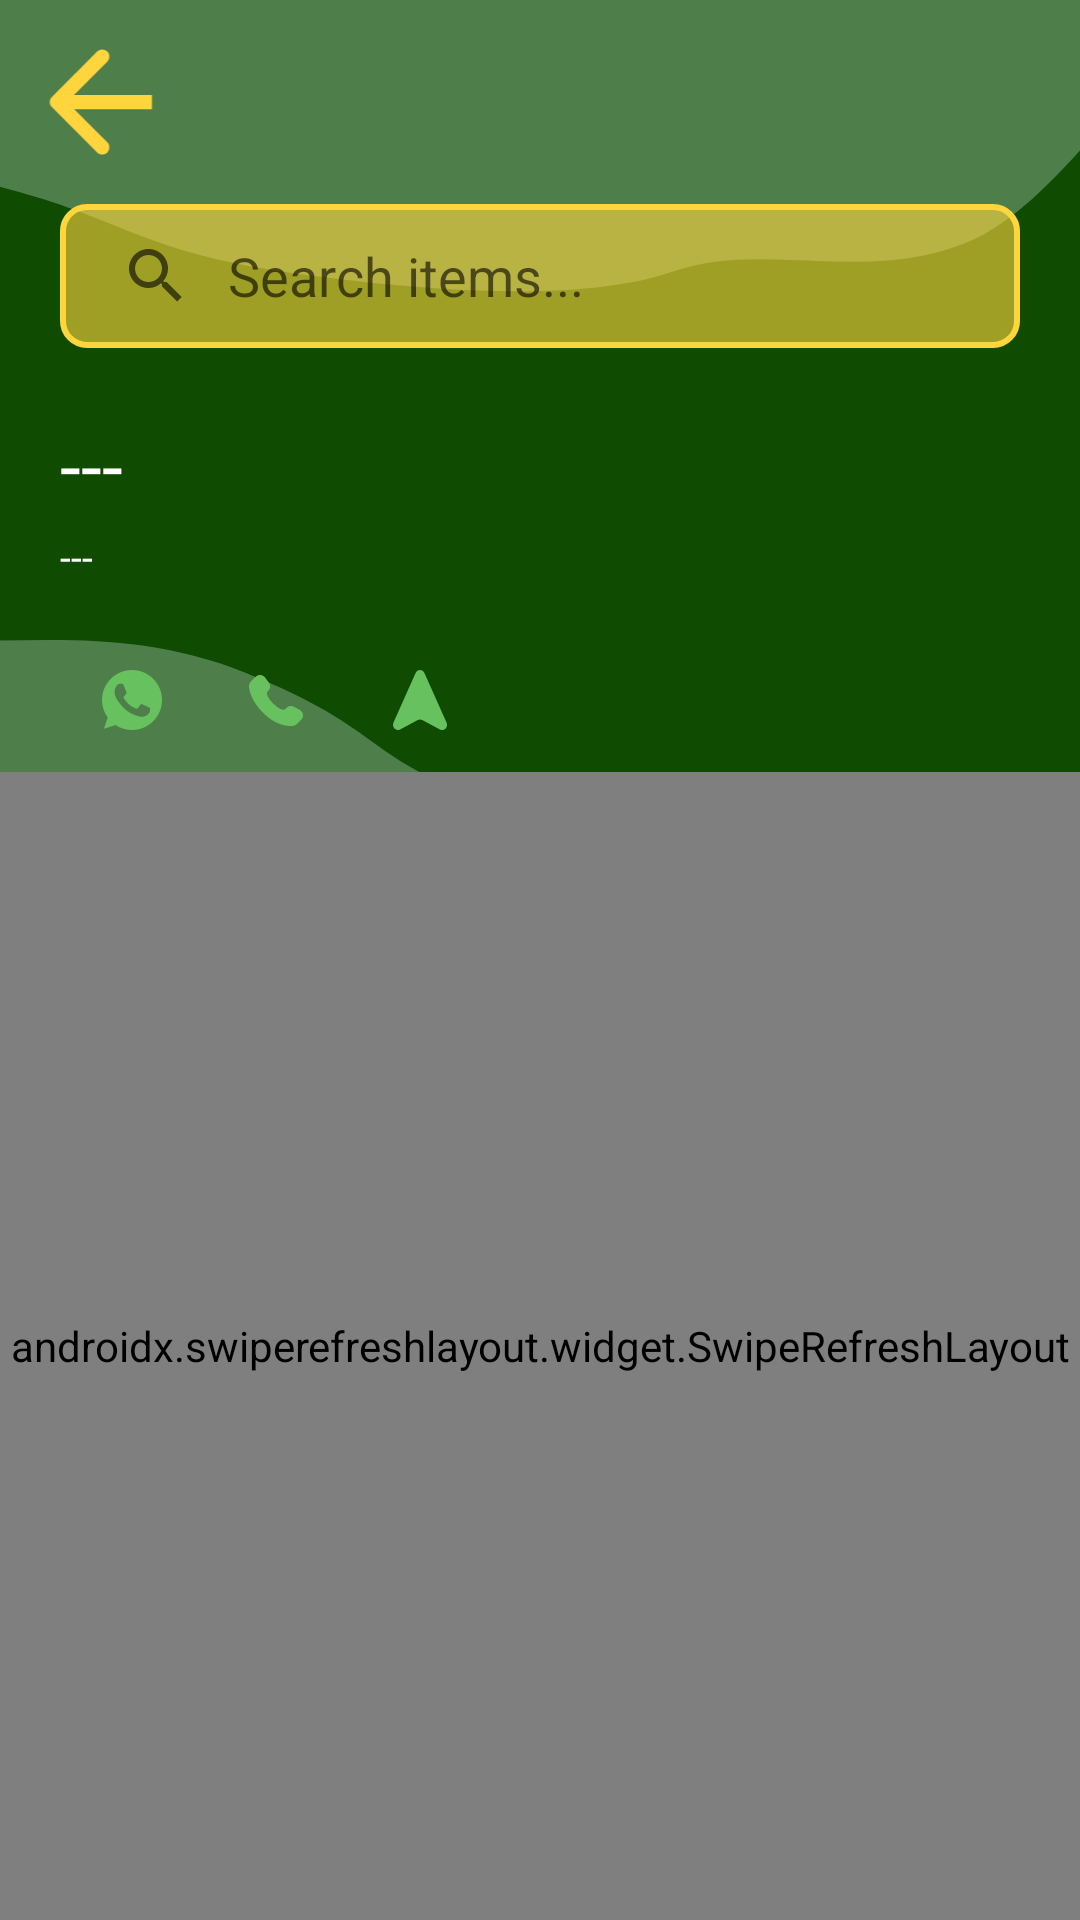

Icons on this 1080 × 1920 Android screen, each with its box as (x1, y1, x2, y2):
map: (393, 670, 447, 730)
Up Button: (49, 49, 153, 155)
